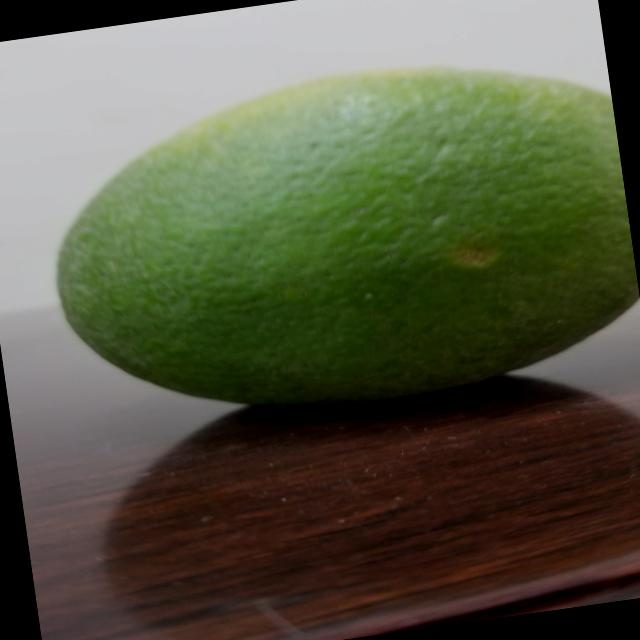agrume: (15, 0, 640, 449)
